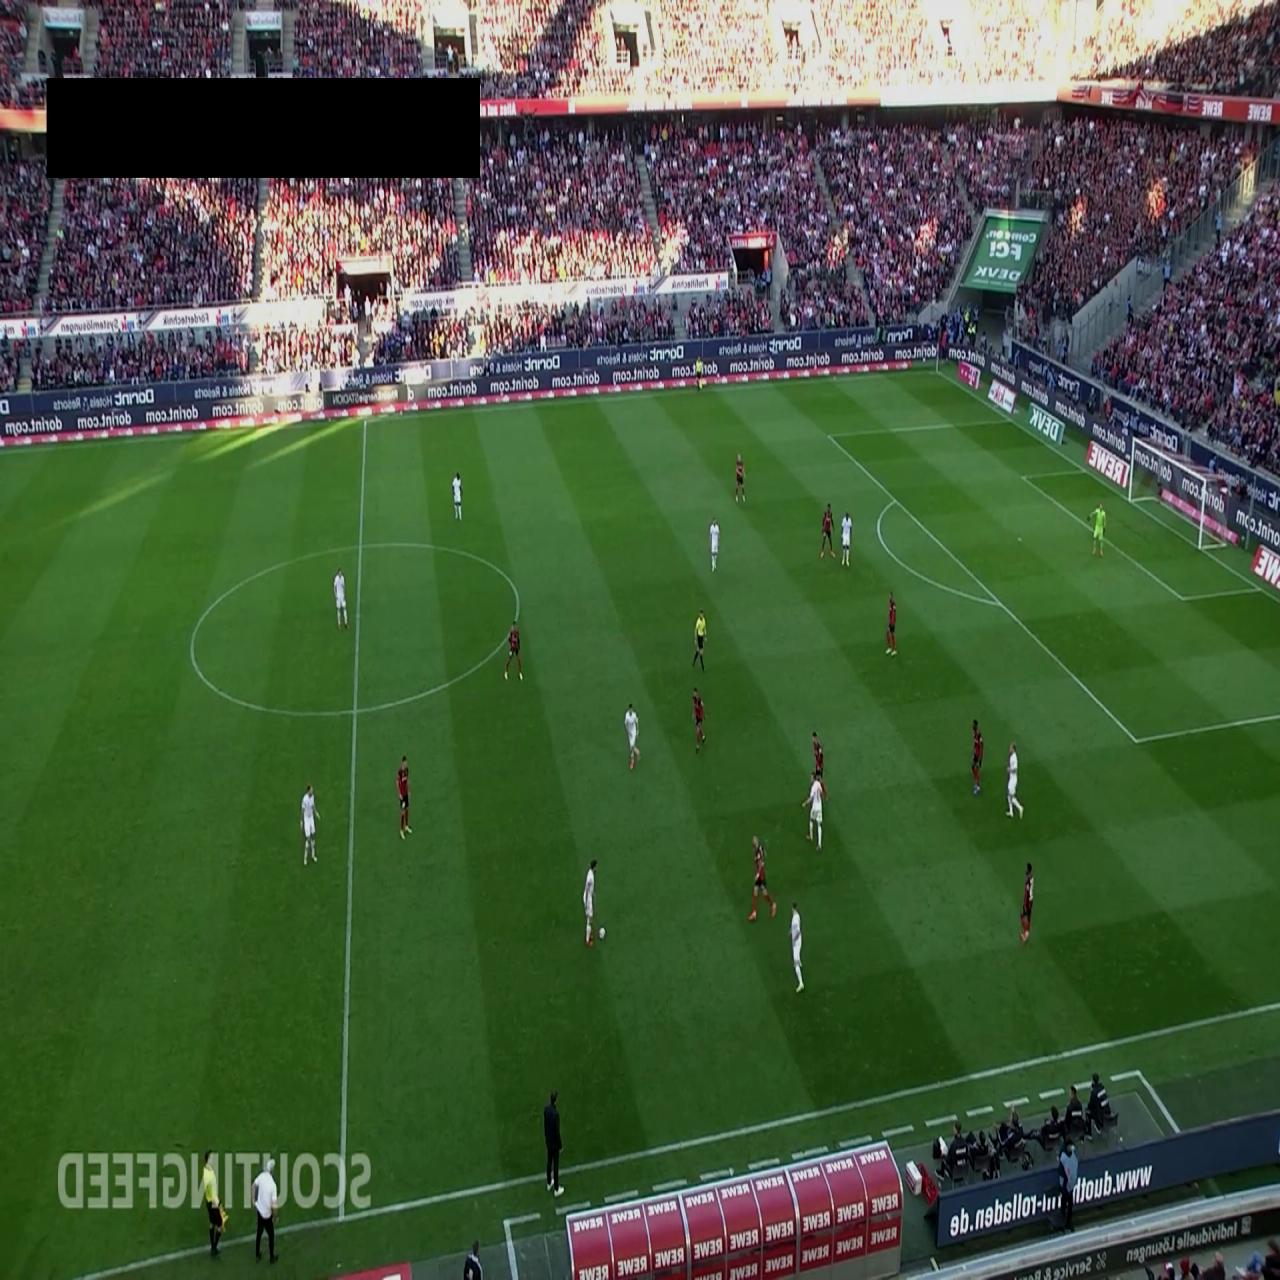ball: (598, 926, 606, 940)
goalkeeper: (1088, 500, 1107, 556)
player: (748, 834, 778, 922), (800, 769, 829, 852), (301, 784, 321, 866), (1005, 741, 1024, 820), (396, 754, 413, 840), (789, 901, 804, 993), (1019, 861, 1034, 944), (583, 858, 597, 946), (504, 622, 524, 682), (624, 700, 640, 770), (333, 566, 349, 630), (692, 687, 706, 754), (971, 720, 983, 796), (820, 502, 835, 560), (885, 590, 897, 656), (840, 510, 852, 568), (811, 730, 824, 780), (709, 516, 720, 572), (735, 452, 746, 504), (452, 470, 463, 520)
referee: (199, 1151, 225, 1255), (692, 609, 707, 672), (692, 353, 704, 394)
